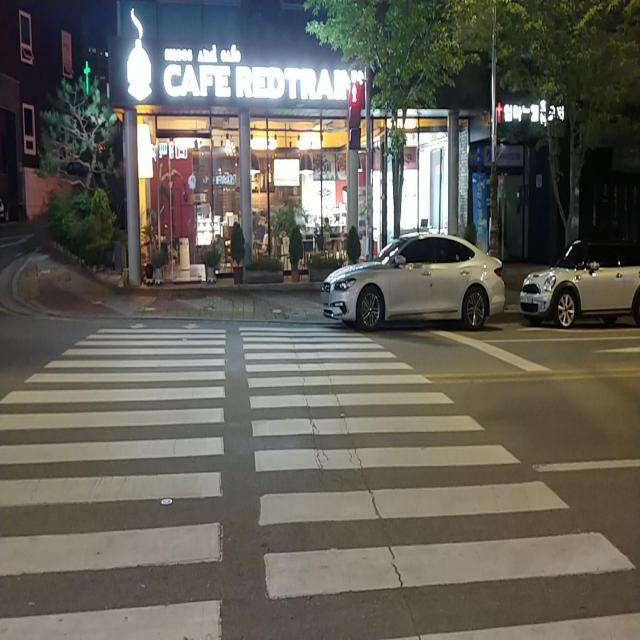횡단보도: (0, 318, 639, 640)
